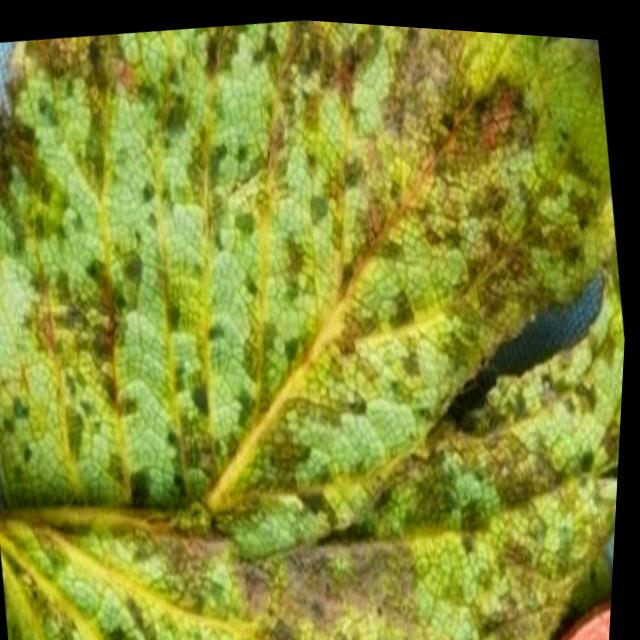Angular Leafspot: (0, 16, 628, 640)
